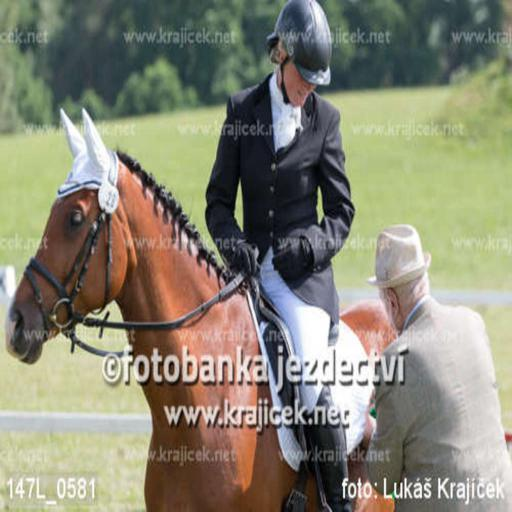horse: (2, 102, 398, 510)
